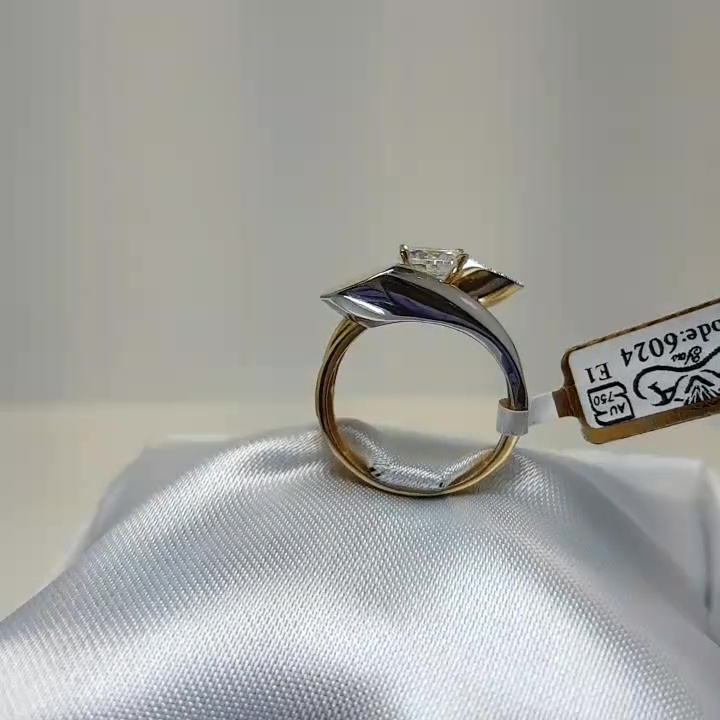Ring 7: (277, 223, 545, 508)
